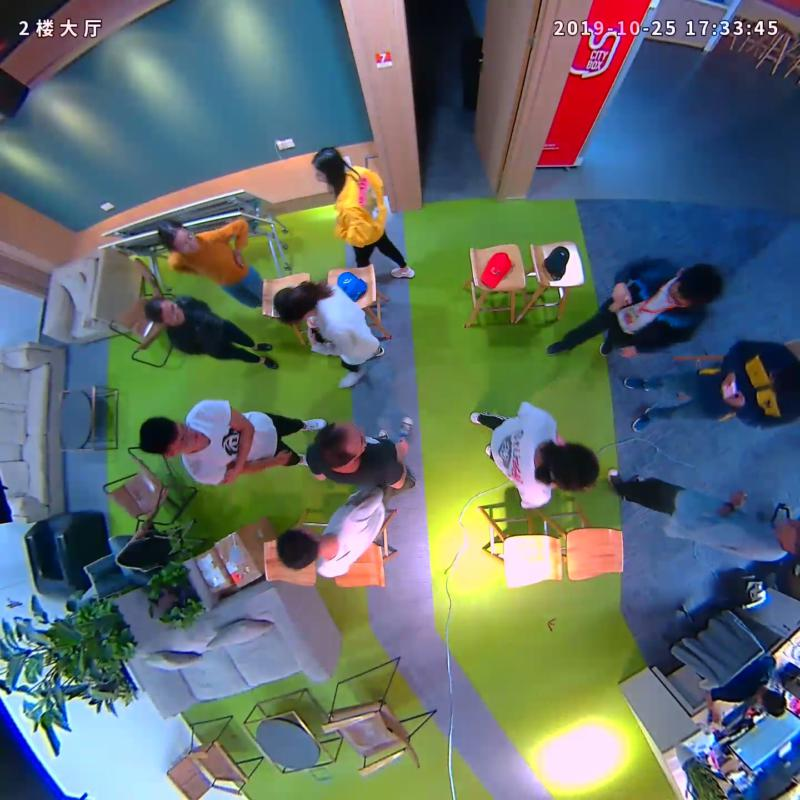head: (548, 440, 600, 493), (139, 416, 201, 458), (313, 422, 367, 468), (666, 263, 721, 308), (277, 526, 319, 570), (273, 285, 315, 323), (157, 220, 199, 256), (310, 146, 346, 183), (145, 295, 184, 326)
